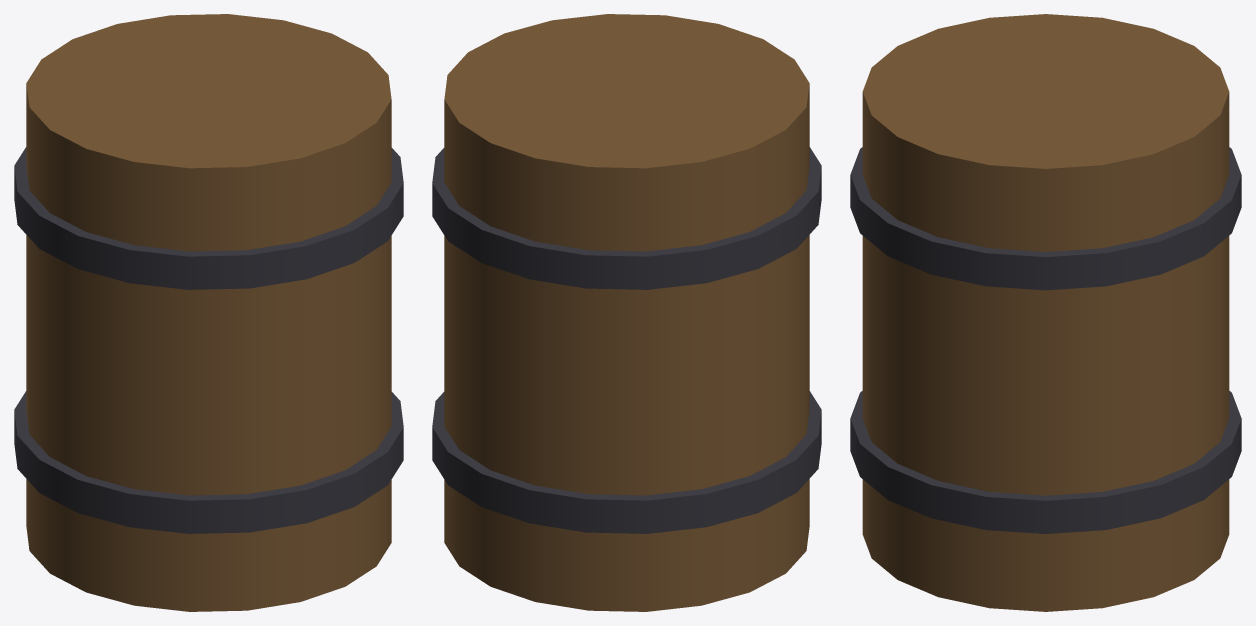
The model's file is barrel.glb.
The picture shows the model from 3 angles, left to right: view 1: azimuth 30°, elevation 25°; view 2: azimuth 150°, elevation 25°; view 3: azimuth 270°, elevation 25°; orthographic projection.
Parts seen in each view (by area): view 1: building; view 2: building; view 3: building.
Boxes of the visible parts, x1,y1,x2,y2 form: building: (14, 14, 403, 611); building: (432, 14, 821, 611); building: (850, 14, 1241, 611).
Bounding box in the file's own units: 0.64 × 0.8 × 0.64.
